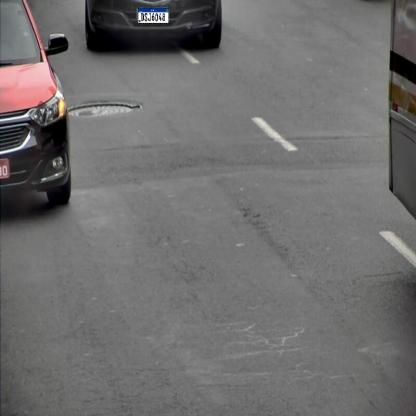PlacaM: (138, 7, 169, 24)
